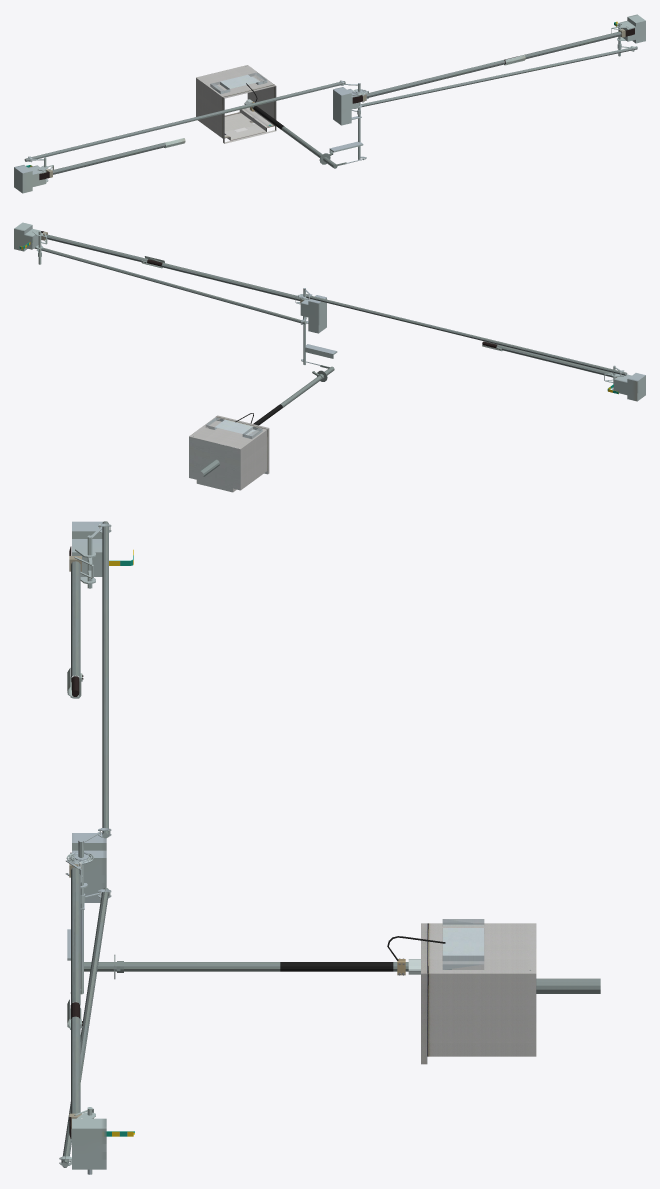
The model's file is glkg-11m32000237461042-geode.glb.
3 renders of one model, top to bottom at view 1: azimuth 30°, elevation 25°; view 2: azimuth 150°, elevation 25°; view 3: azimuth 270°, elevation 25°, orthographic. The views are drawn at different scales.
Parts seen in each view (by area): view 1: Node; view 2: Node; view 3: Node.
Boxes of the visible parts, x1,y1,x2,y2 form: Node: [14, 14, 645, 193]; Node: [14, 222, 645, 492]; Node: [59, 521, 600, 1174].
Bounding box in the file's own units: 6.86 × 1.17 × 2.58.
10 materials, 10 textured.
